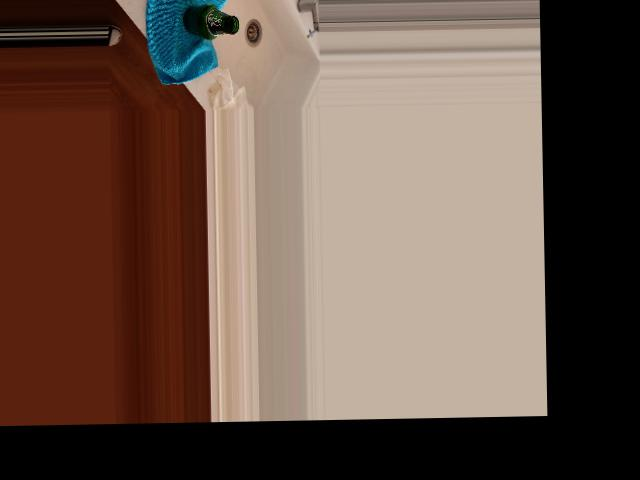beer: (182, 4, 238, 40)
